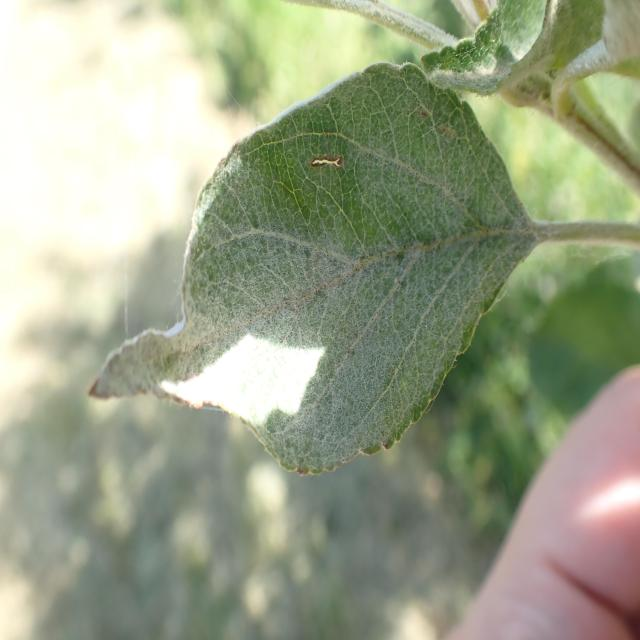Powdery_mildew: (88, 42, 538, 483), (422, 0, 635, 162)
